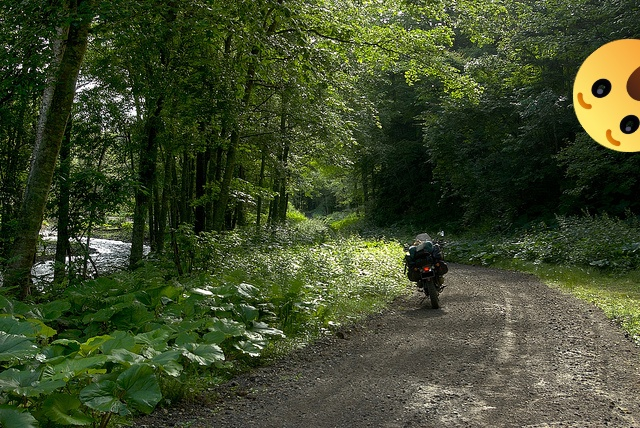wow: (573, 39, 640, 152)
